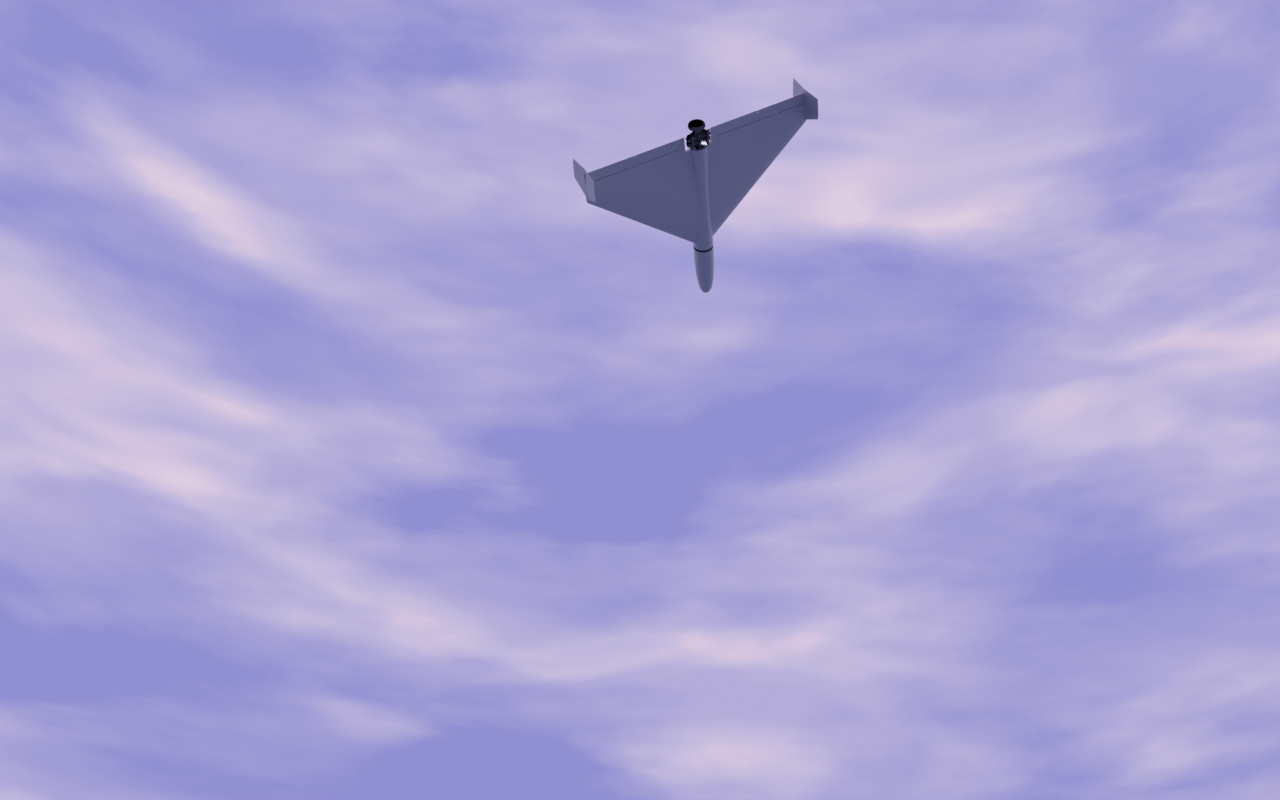shahed: (573, 78, 820, 295)
